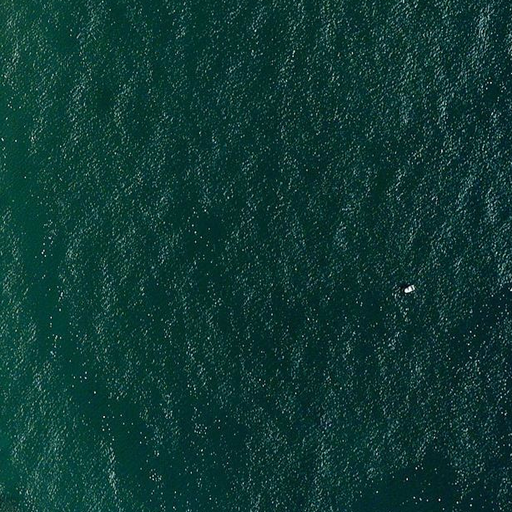ship: (401, 282, 417, 295)
